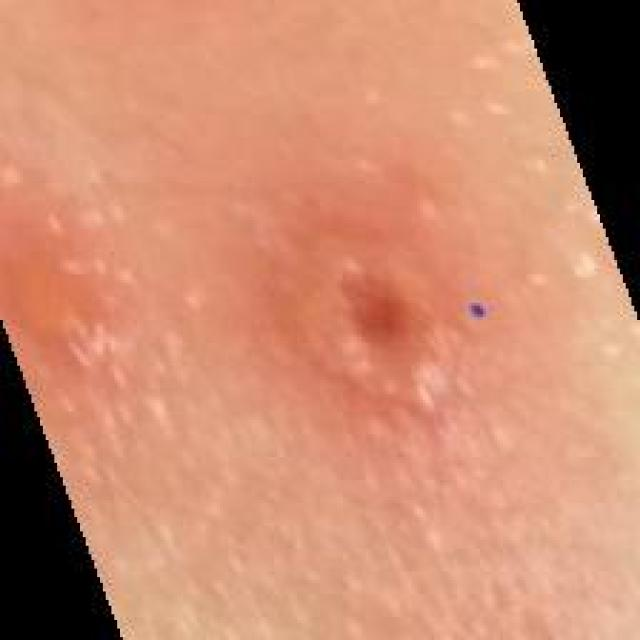others: (167, 165, 613, 586)
